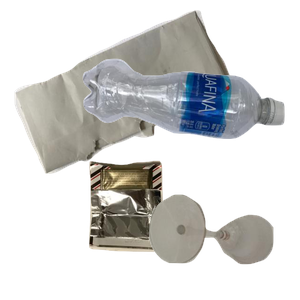glass: (147, 192, 300, 300)
paper: (12, 10, 240, 176)
plastic: (80, 56, 300, 187)
trash: (86, 158, 242, 300)
